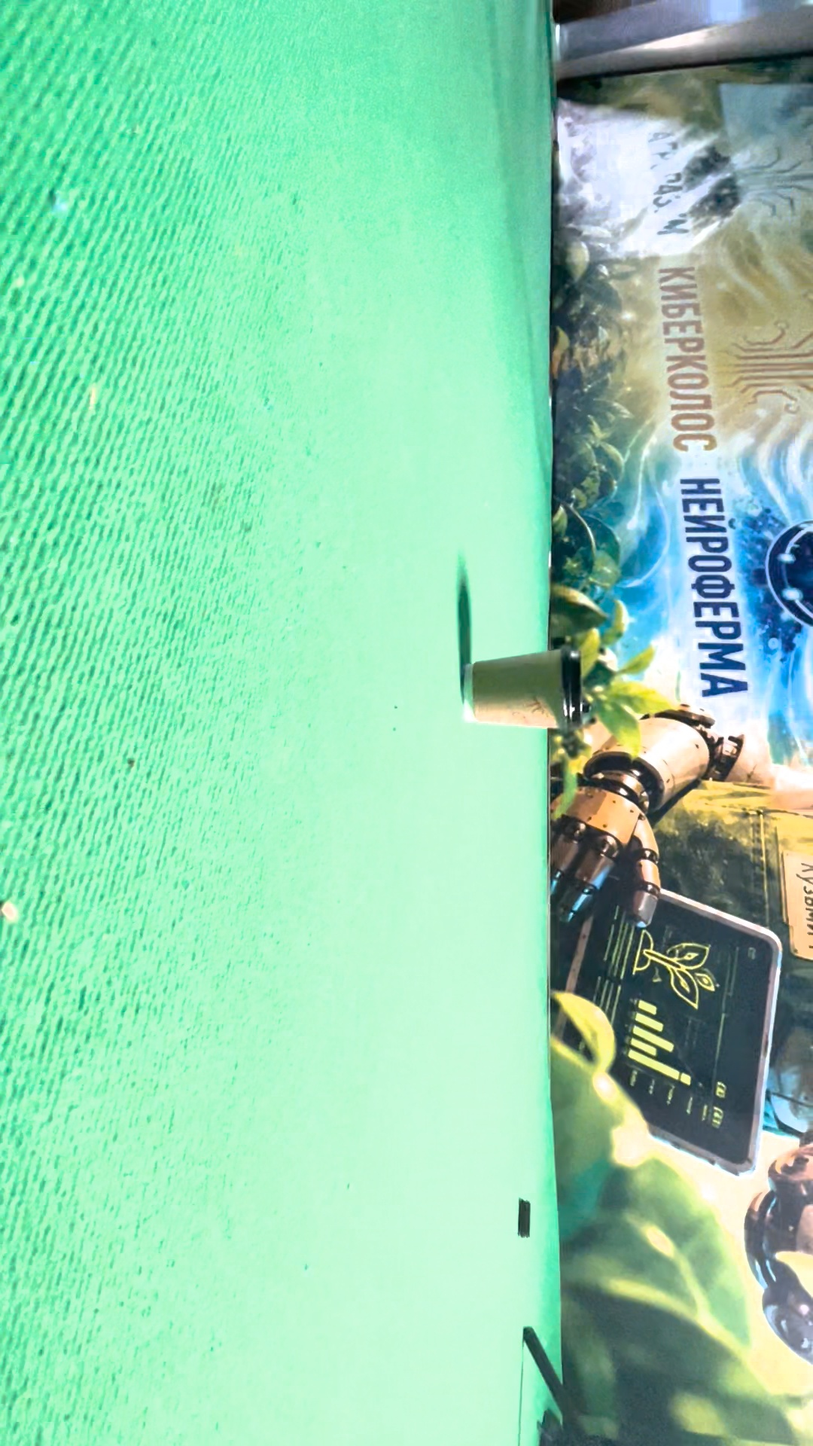cup: (442, 520, 528, 936)
